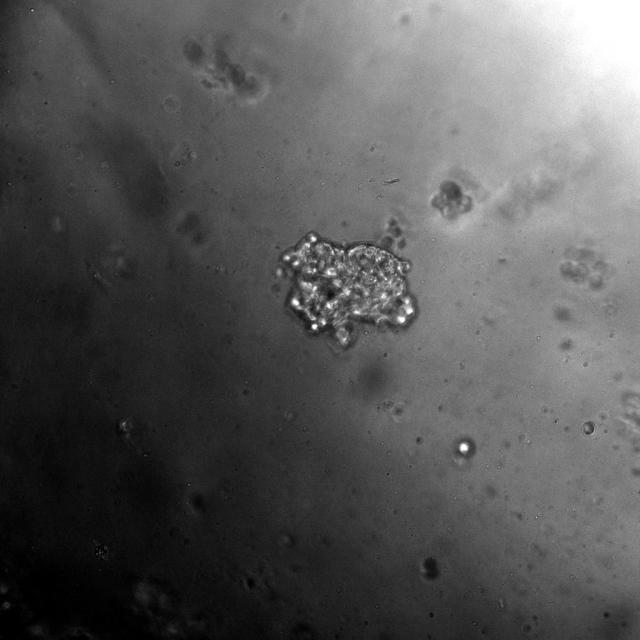organoid: (279, 218, 416, 348), (430, 180, 472, 220), (423, 556, 439, 579), (92, 540, 109, 560), (582, 421, 594, 435)
